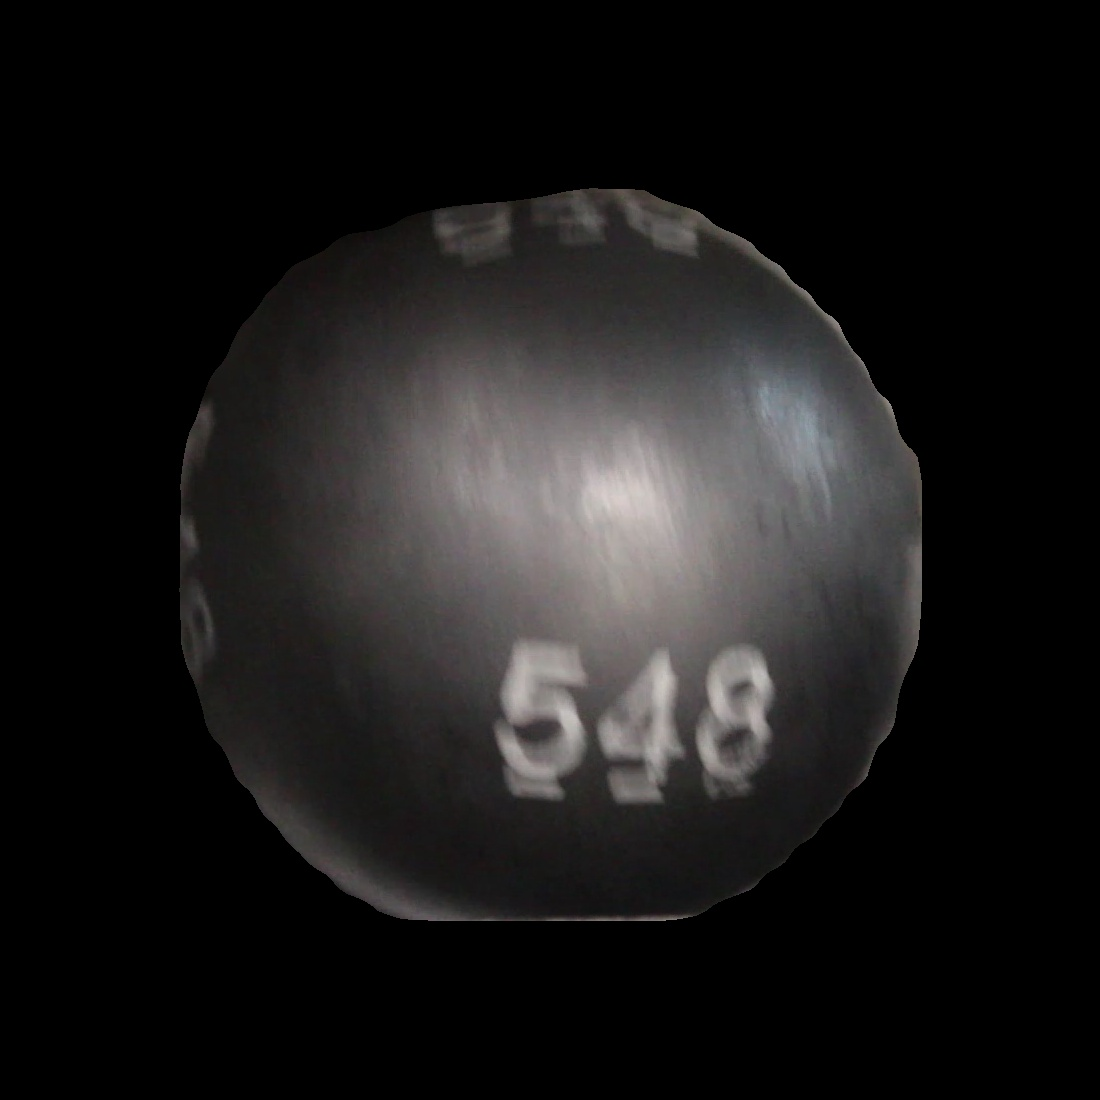digits: (469, 624, 785, 815)
